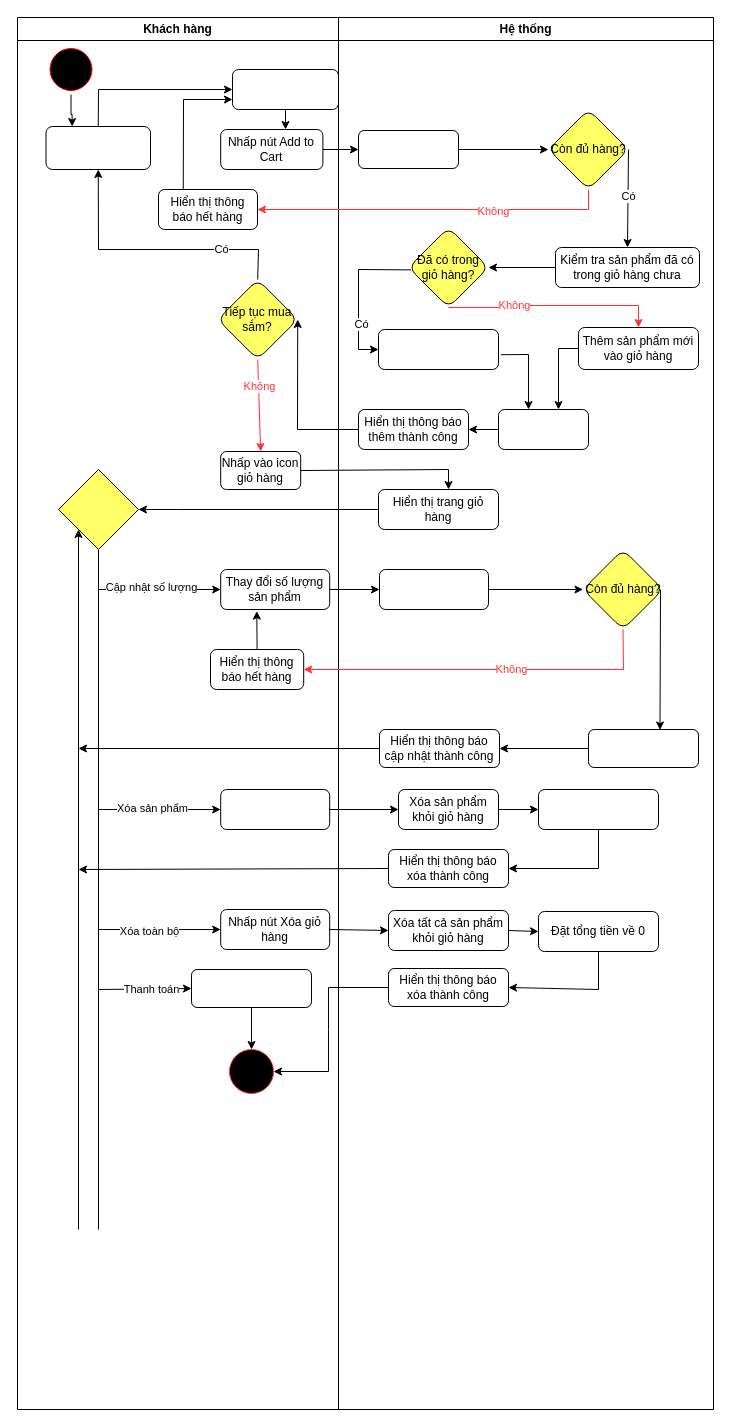
Image size: 731x1427. Some labels were removed from this diagram. The shapes that lost their labels are listed below. From the top down, each one's centre as x and y in pixels, then its label:
the point at 285,89: Chọn sản phẩm và số lượng
the point at 97,148: Đăng nhập và duyệt sản phẩm
the point at 408,149: Kiểm tra tồn kho
the point at 438,349: Tăng số lượng sản phẩm hiện có
the point at 543,429: Tính toán lại tổng giỏ hàng
the point at 98,509: Chọn hành động?
the point at 433,589: Kiểm tra tồn kho với số lượng mới
the point at 643,748: Cập nhật số lượng và tính lại tổng tiền
the point at 275,809: Nhấp nút Remove của sản phẩm
the point at 598,809: Tính lại tổng tiền giỏ hàng
the point at 251,988: Nhấp nút Proceed to Checkout
